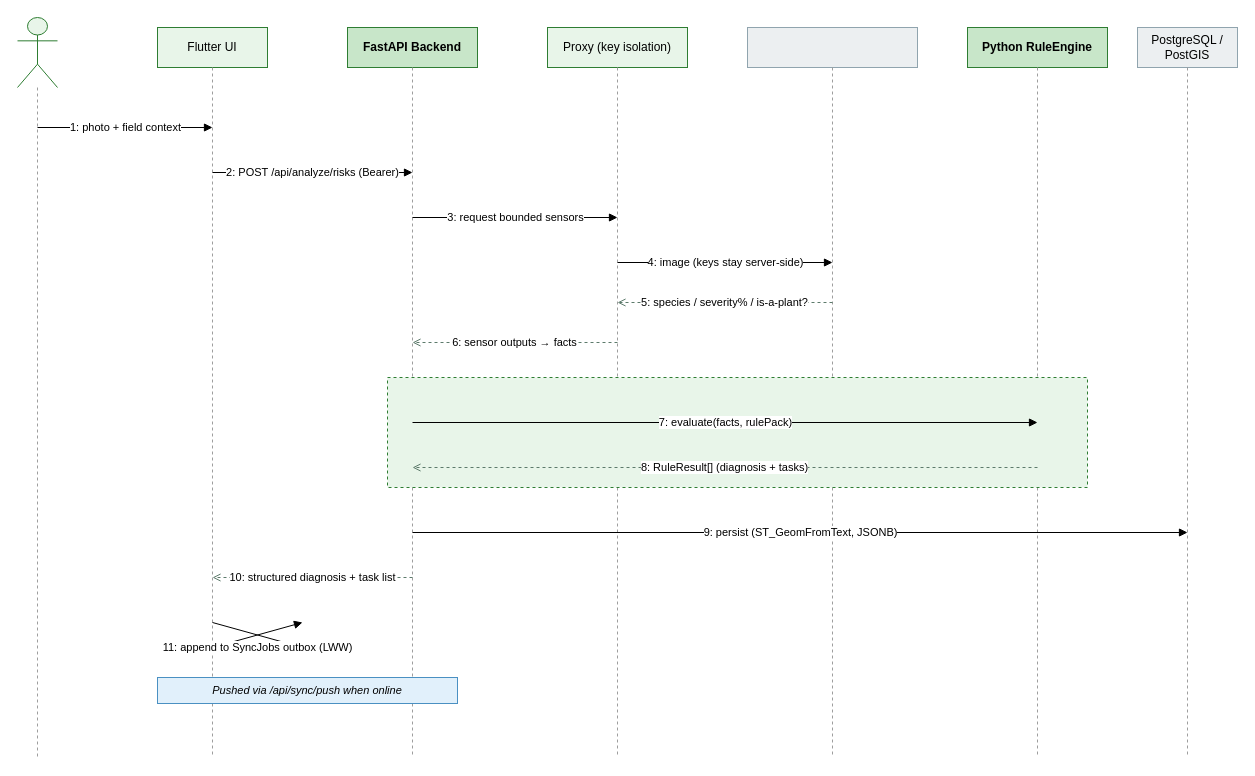
Some shapes in this 1255 by 776 pixel diagram are drawn without their labels. The centre of each missing label's shape, as x and y in pixels:
"Deterministic core — sensors are INPUTS, not the decision" goes at (x=737, y=432).
"Farmer" goes at (x=37, y=52).
"PlantNet / Gemini / Imagga" goes at (x=832, y=47).
